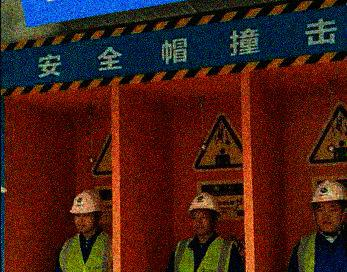helmet: (313, 178, 347, 232), (69, 188, 105, 235), (186, 190, 221, 236)
